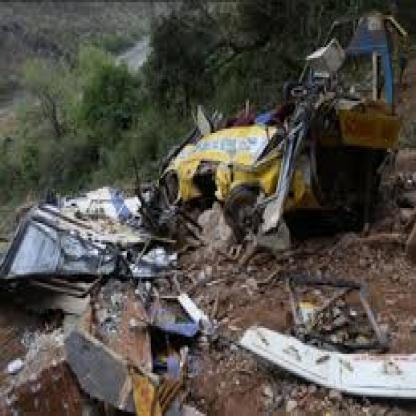accident: (21, 84, 402, 268)
